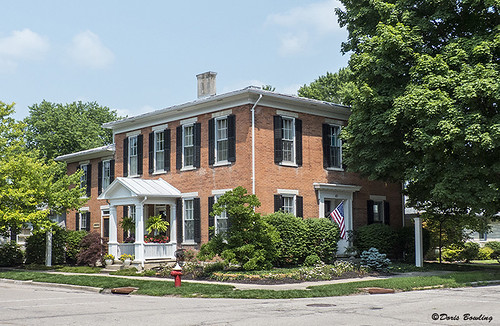medium: (54, 83, 407, 285)
